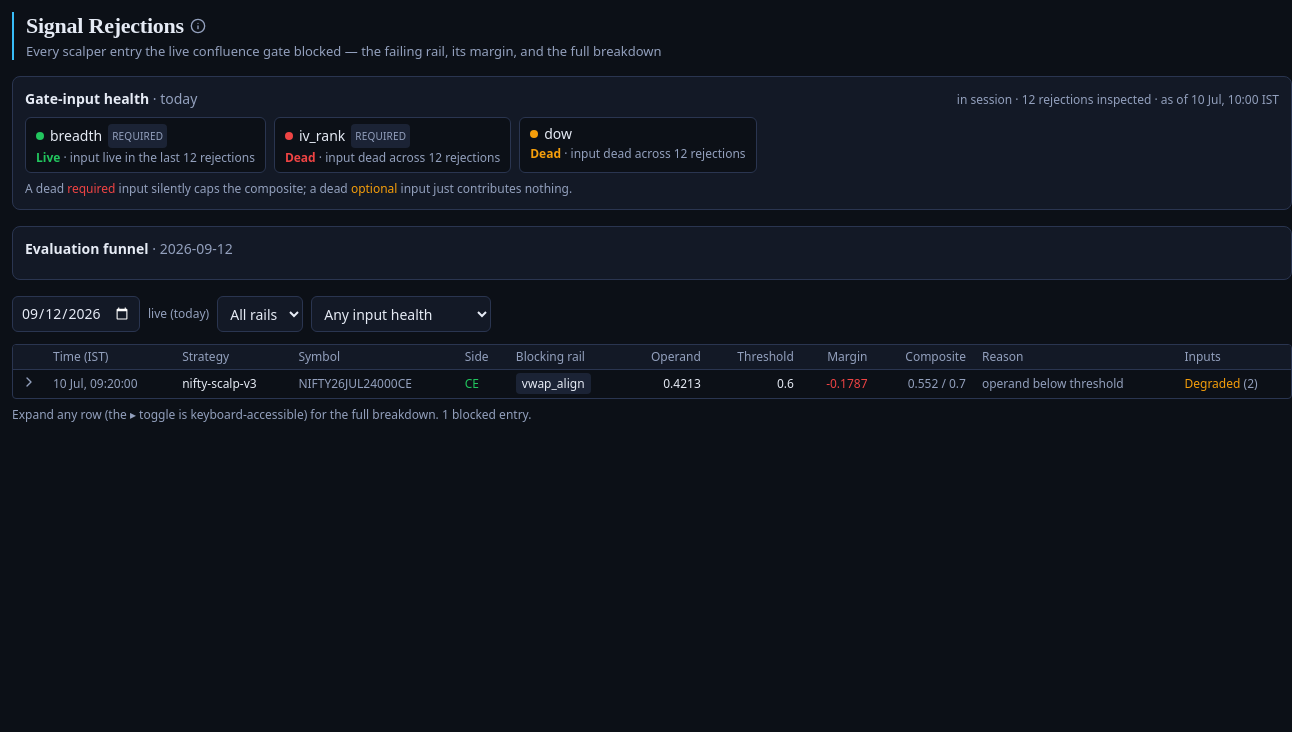
Test case: RejectionsPage main table (adopted onto DataTable) › badges a degraded row with a WORD + the flag count, and names the absent inputs when expanded
The width and height of the screenshot is (1292, 732).
Expected: the text "Degraded" is shown, x1=1184 y1=375 x2=1240 y2=392
Expected: the text "(2)" is shown, x1=1240 y1=375 x2=1258 y2=392
Click the button named "Expand details".
click(29, 382)  # box x1=21 y1=374 x2=37 y2=390
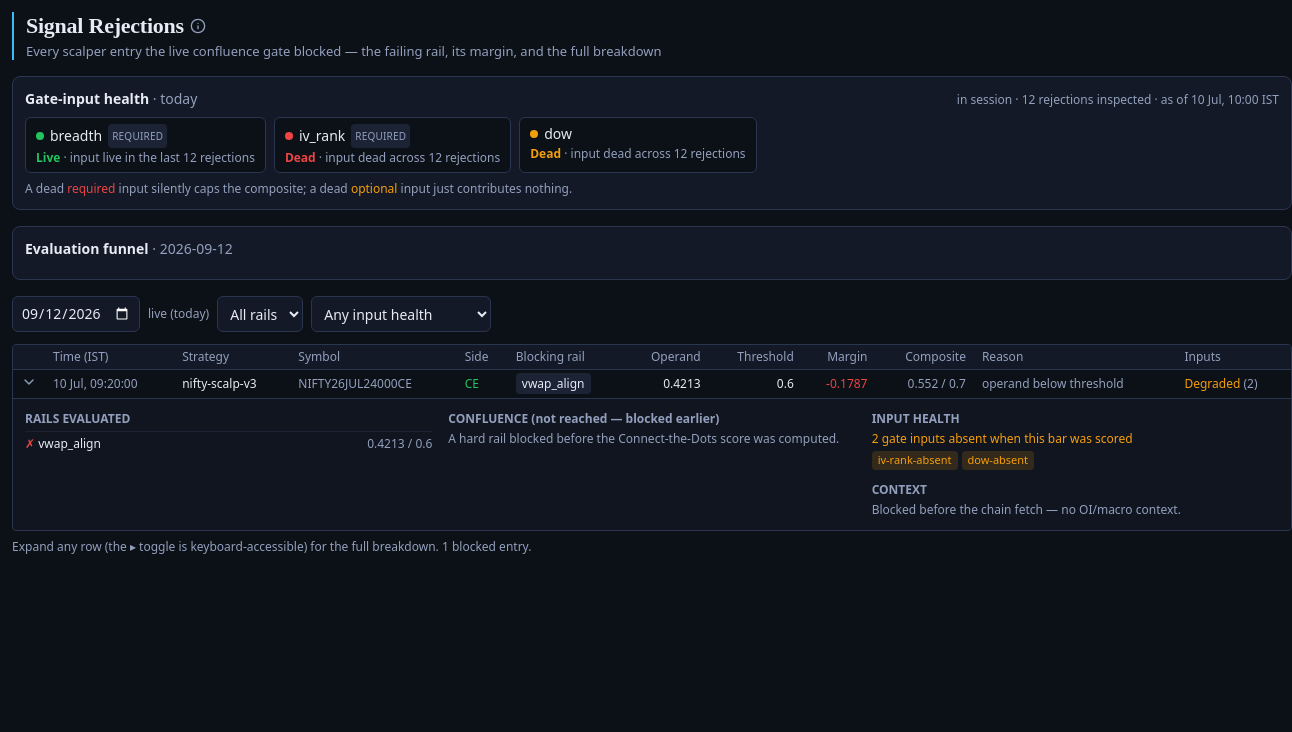
Result: the heading "Input health" is shown at x1=872 y1=410 x2=960 y2=427
Result: the text "2 gate inputs absent when this bar was scored" is shown at x1=872 y1=430 x2=1133 y2=447
Result: the list item "iv-rank-absent" is shown at x1=872 y1=451 x2=958 y2=470
